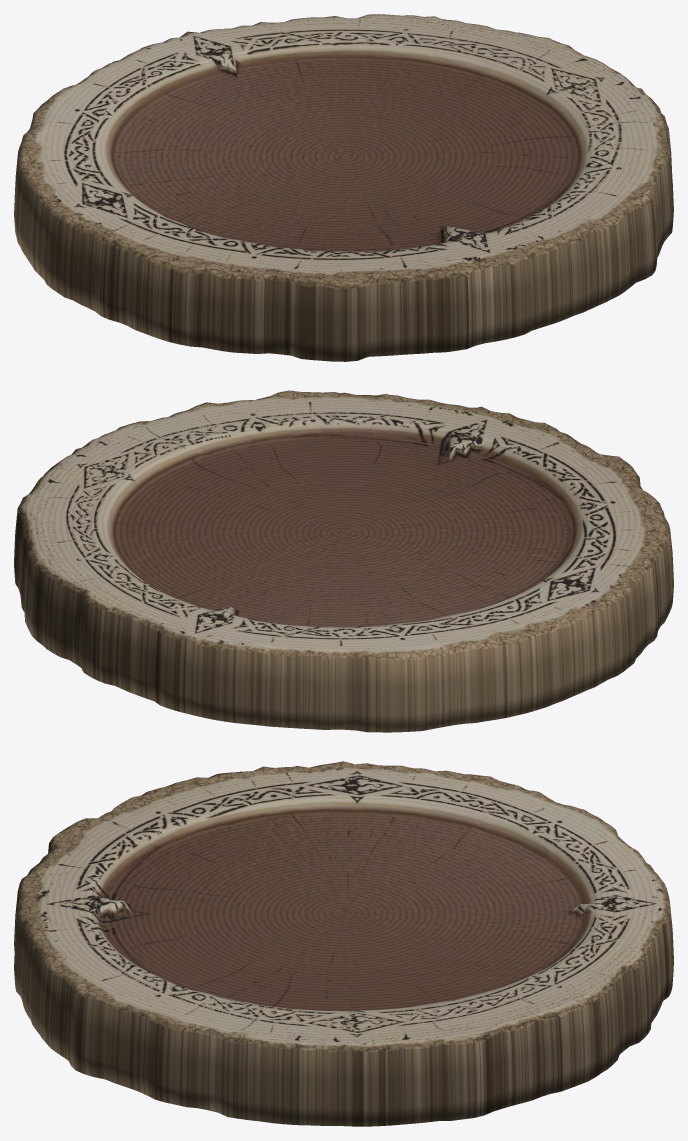
Rendered from board-negative.glb.
3 views of the same model, one above another, from view 1: azimuth 30°, elevation 25°; view 2: azimuth 150°, elevation 25°; view 3: azimuth 270°, elevation 25° (orthographic). The views are drawn at different scales.
Visible parts, largest first — view 1: board; view 2: board; view 3: board.
Part boxes in pixels (x1,y1,x2,y2): board: (14,14,673,361); board: (14,390,673,732); board: (14,761,673,1126).
Size of the model in its own units: 20.12 by 2.63 by 19.32.
1 material, 1 textured.
